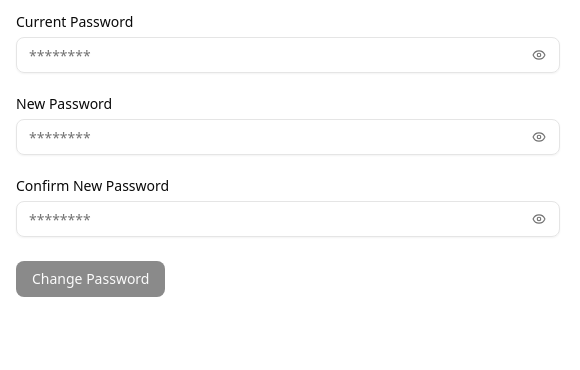
Test case: ChangePasswordForm › shows validation error when passwords do not match
Type "newpassword" into the password field labelled "New Password" at coordinates (271, 137), box [17, 119, 524, 155]
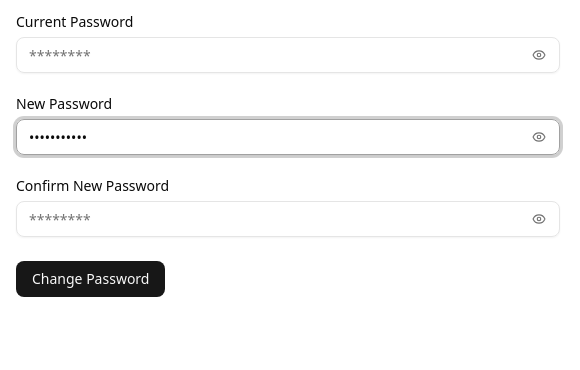
Type "differentpassword" into the password field labelled "Confirm New Password" at coordinates (271, 219), box [17, 201, 524, 237]
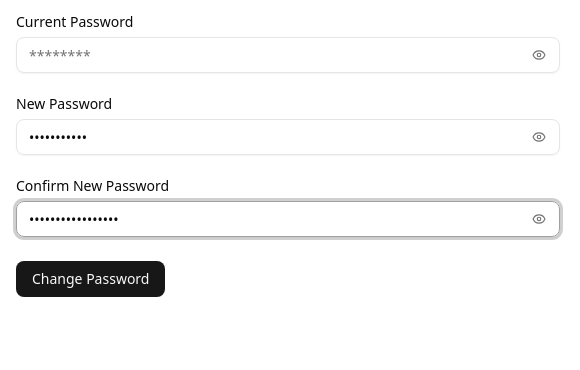
Click the button "Change Password" at coordinates (91, 279), box [16, 261, 166, 297]
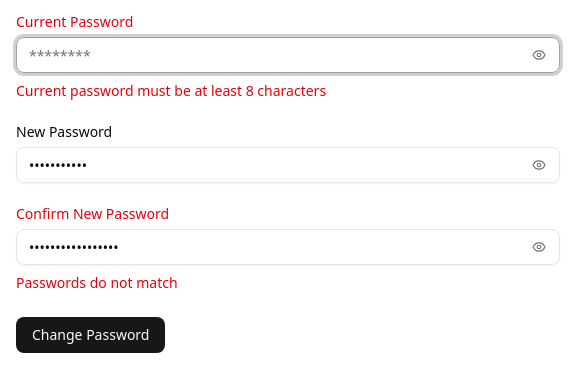
Result: the text "Passwords do not match" is shown at [16, 273, 178, 292]
